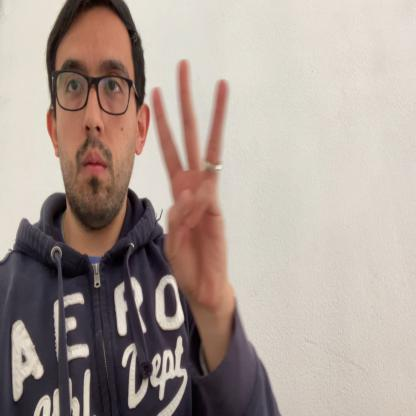W: (152, 58, 230, 308)
